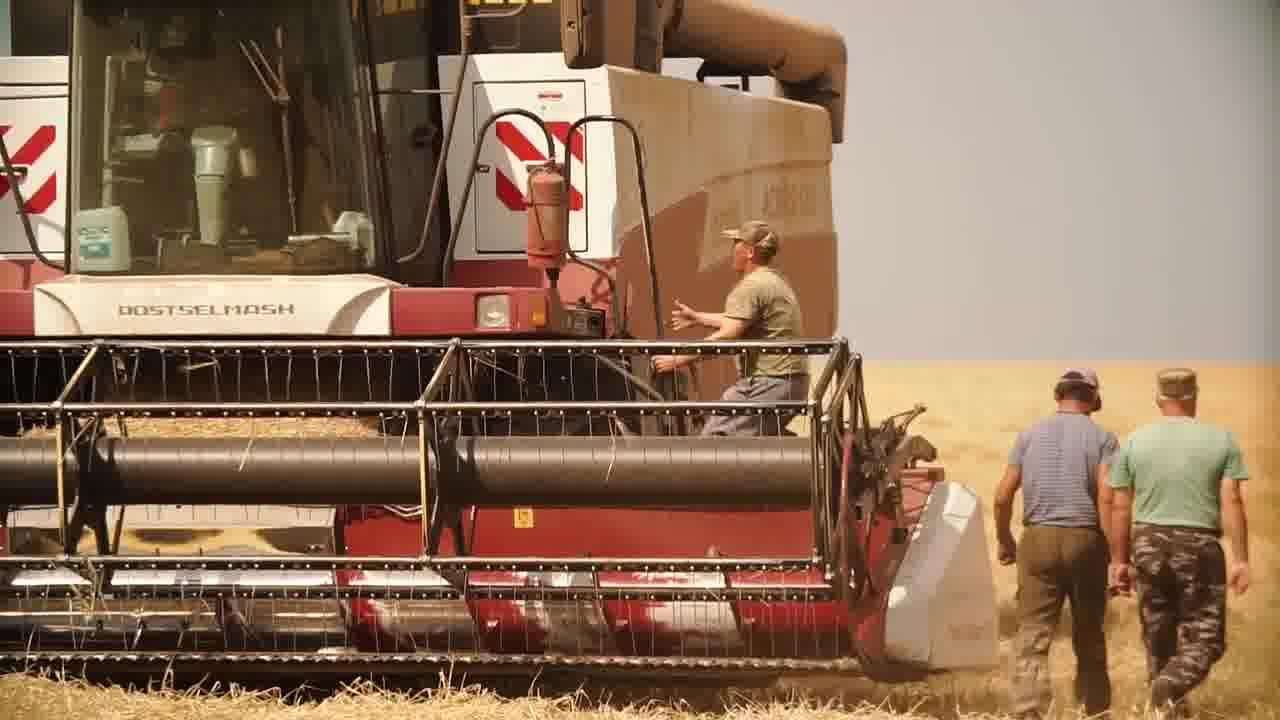combine harvester: (0, 0, 1009, 694)
